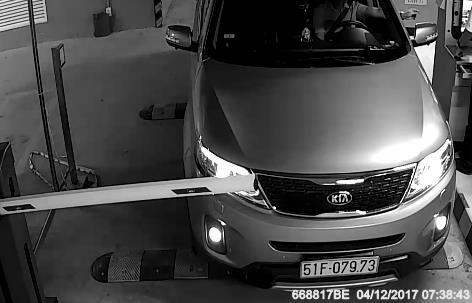License-plate: (294, 246, 401, 285)
